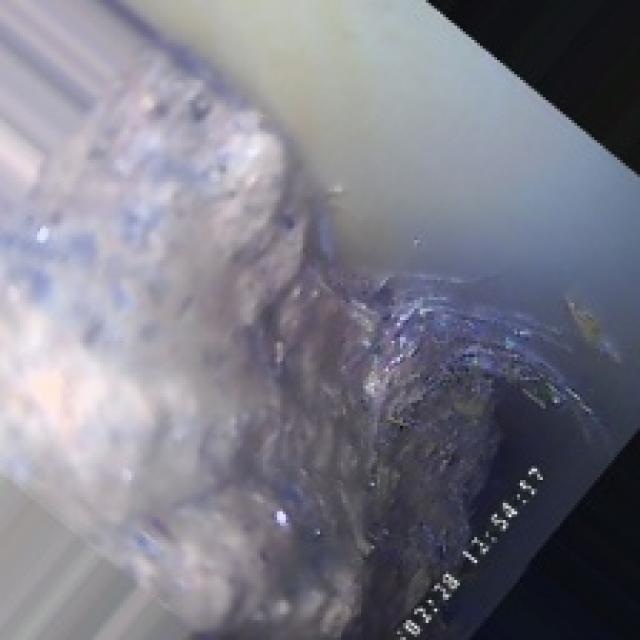sluge accumulation: (43, 54, 511, 529)
